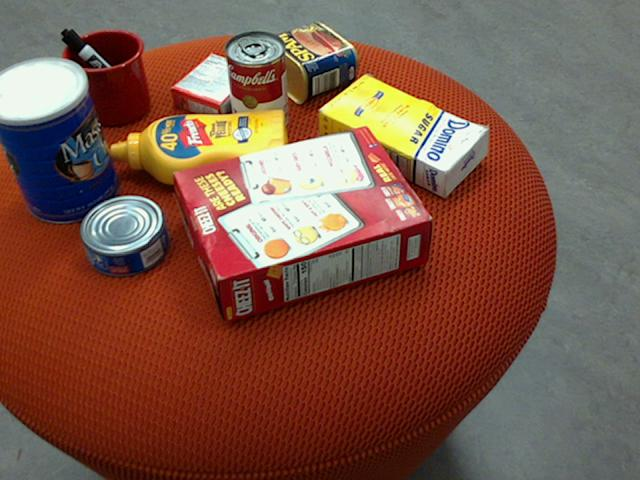cracker_box: (172, 124, 432, 321)
gelatin_box: (170, 52, 261, 121)
large_marker: (60, 28, 146, 110)
master_chef_can: (0, 57, 119, 224)
mug: (48, 30, 150, 126)
mustard_bottle: (111, 109, 288, 185)
potted_meat_can: (257, 22, 358, 104)
sugar_box: (317, 74, 490, 195)
tomato_soup_can: (224, 29, 288, 136)
tuna_fish_can: (79, 196, 170, 277)
